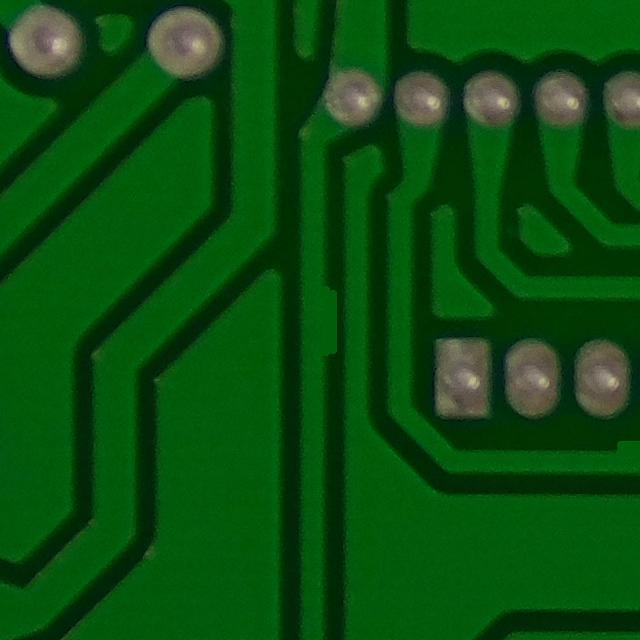spur: (287, 268, 353, 372)
